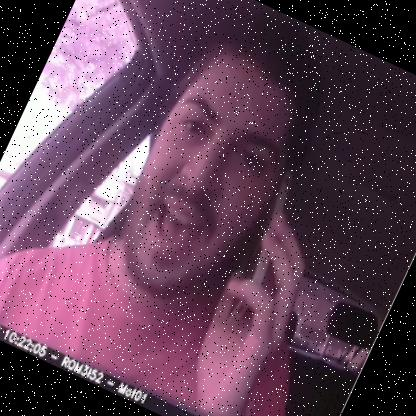phone: (203, 161, 316, 341)
